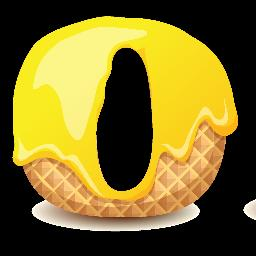o: (10, 14, 244, 226)
